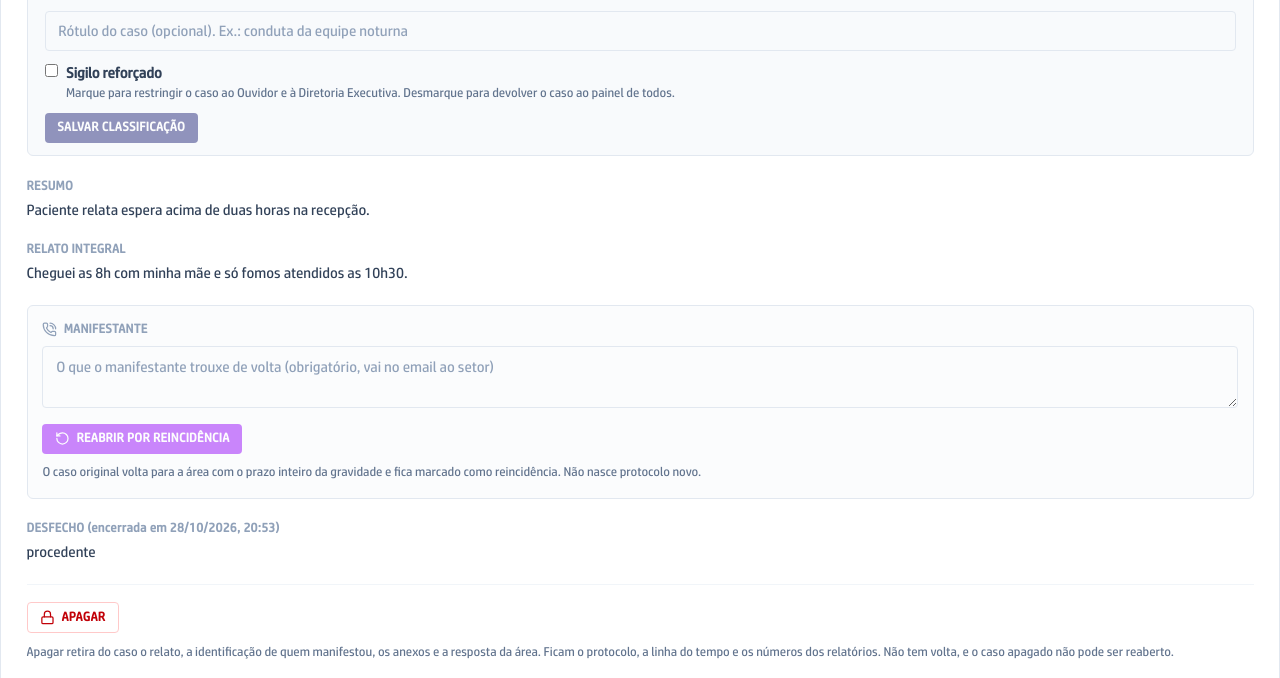
Test: a confirmação com motivo obrigatório (issue #595) › a tela adota o caso que a rota devolve, sem recarregar nada
(page scrolled)
Click the button "Apagar".
click(73, 617)  # box [26,602,119,633]
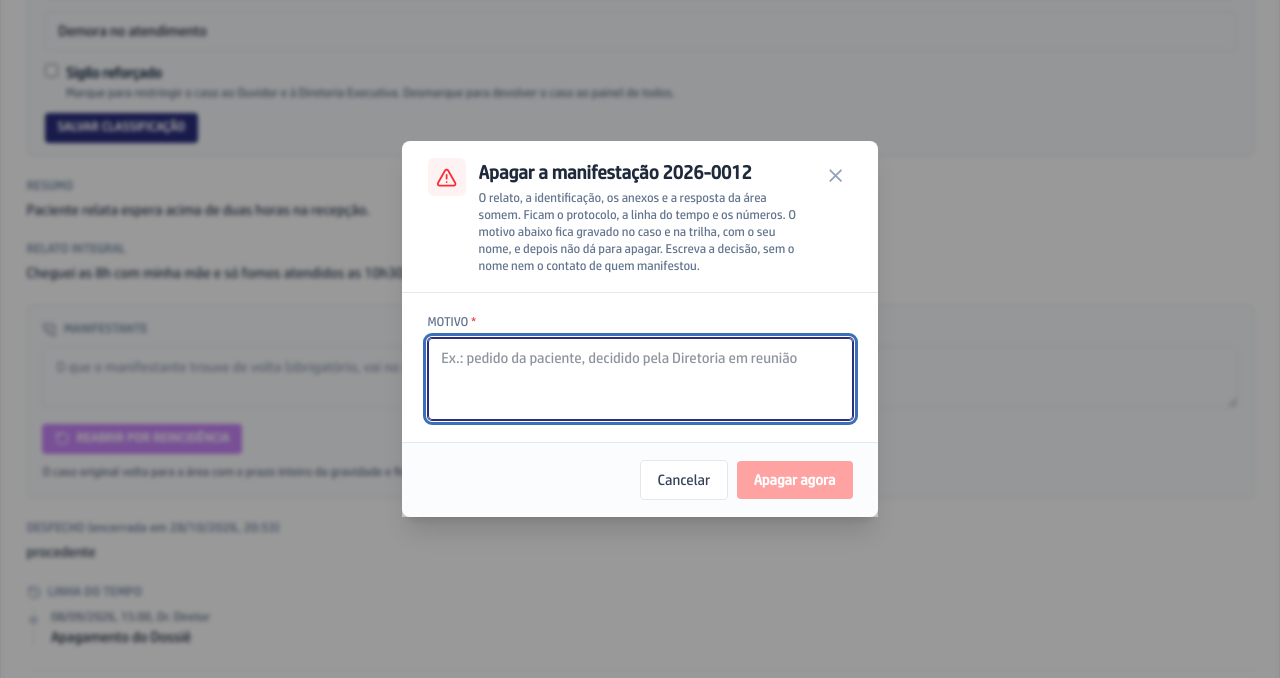
Type "Pedido da paciente, com decisão da Diretoria em 08/09/2026." into the text box labelled "Motivo *".
click(640, 379); type("Pedido da paciente, com decisão da Diretoria em 08/09/2026.")  # box [428,338,852,420]
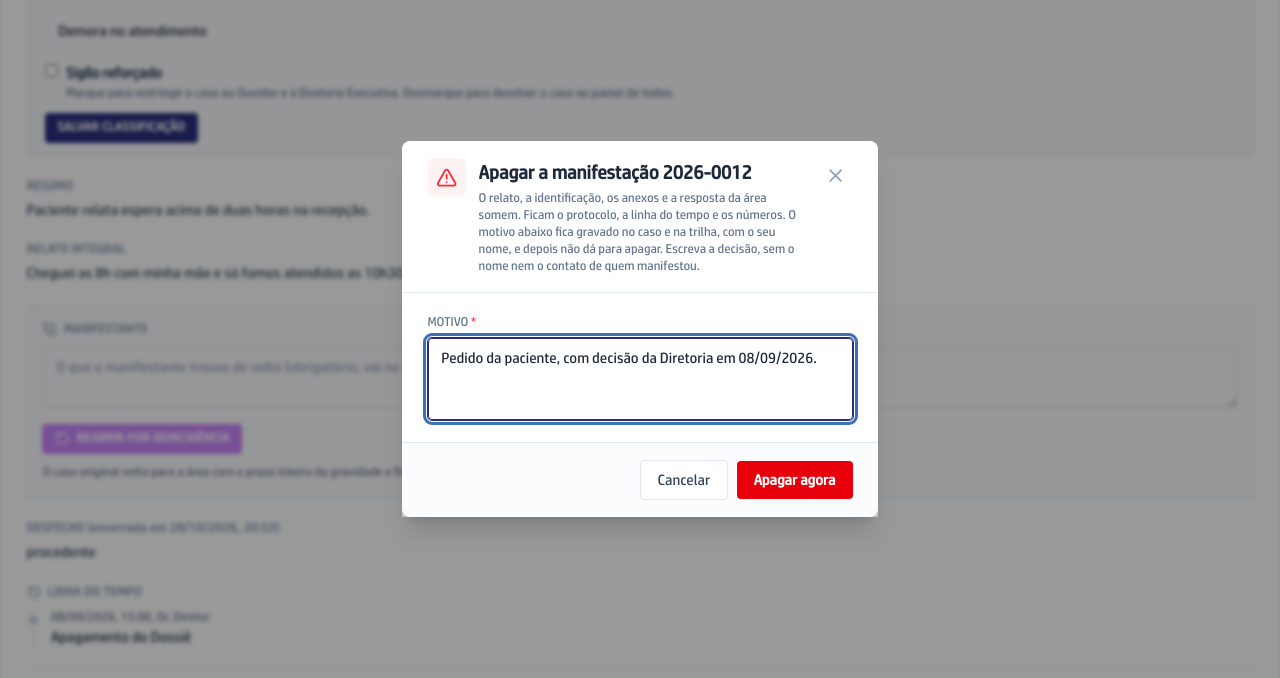
Click the button "Apagar agora".
click(795, 480)  # box [737,461,852,499]
(page scrolled)
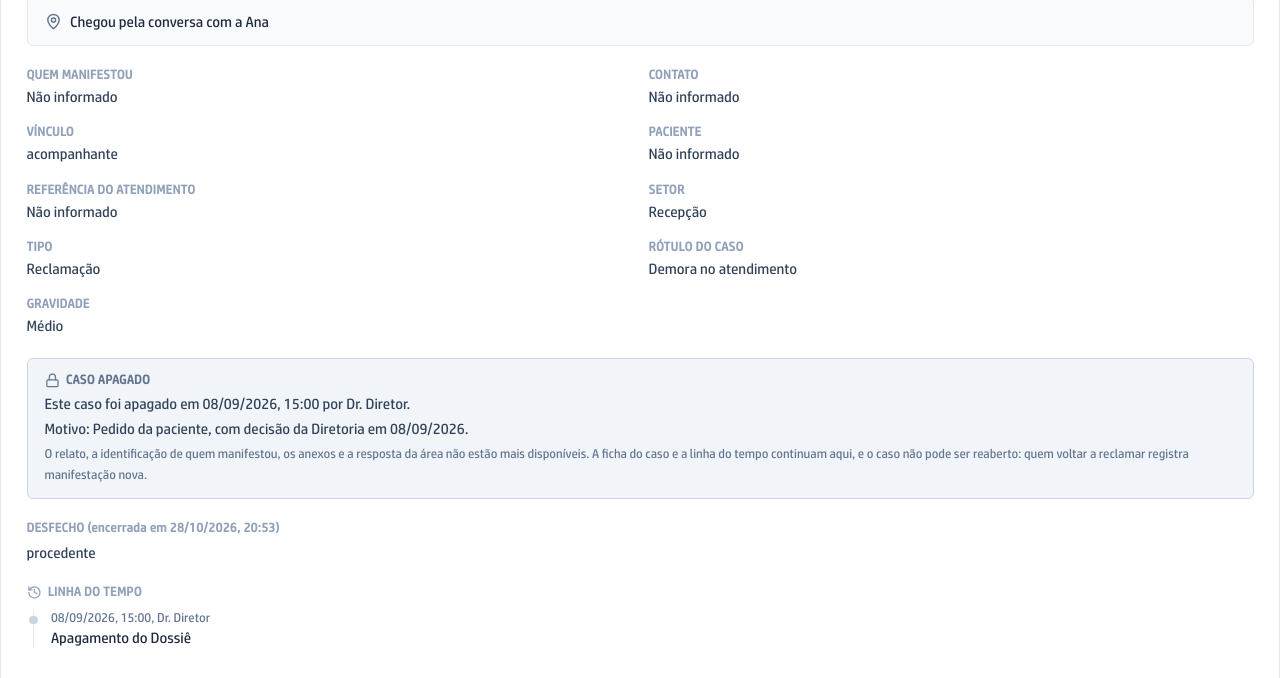
Expected: the element "Caso apagado" shows "Pedido da paciente, com decisão da Diretoria em 08/09/2026.", [93,420,468,437]
Expected: the text "Cheguei as 8h com minha mãe e só fomos atendidos as 10h30." is gone
